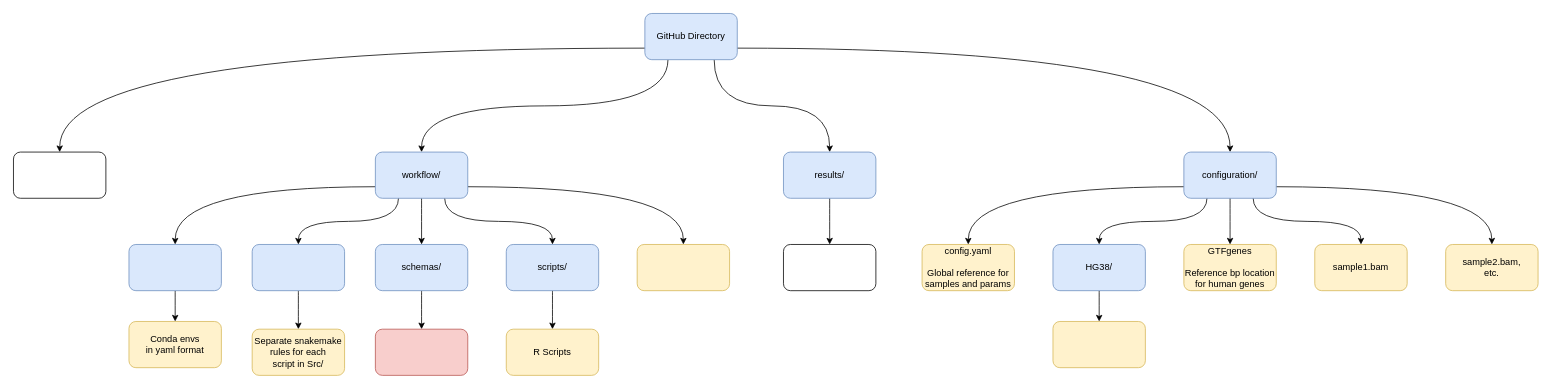
The diagram is 1552 pixels wide and 389 high, and some of its shapes have lost their labels. Each missing label, with the centre of its shape:
"envs/" belongs at (174,267).
"Human Reference Genome" belongs at (1098,344).
"README" belongs at (59,174).
"README Explains that results are returned here" belongs at (829,267).
"rules/" belongs at (298,267).
"Schemas that verify if the input files are correctly formatted" belongs at (421,351).
"Snakefile Calls all rules in Rules/" belongs at (683,267).
